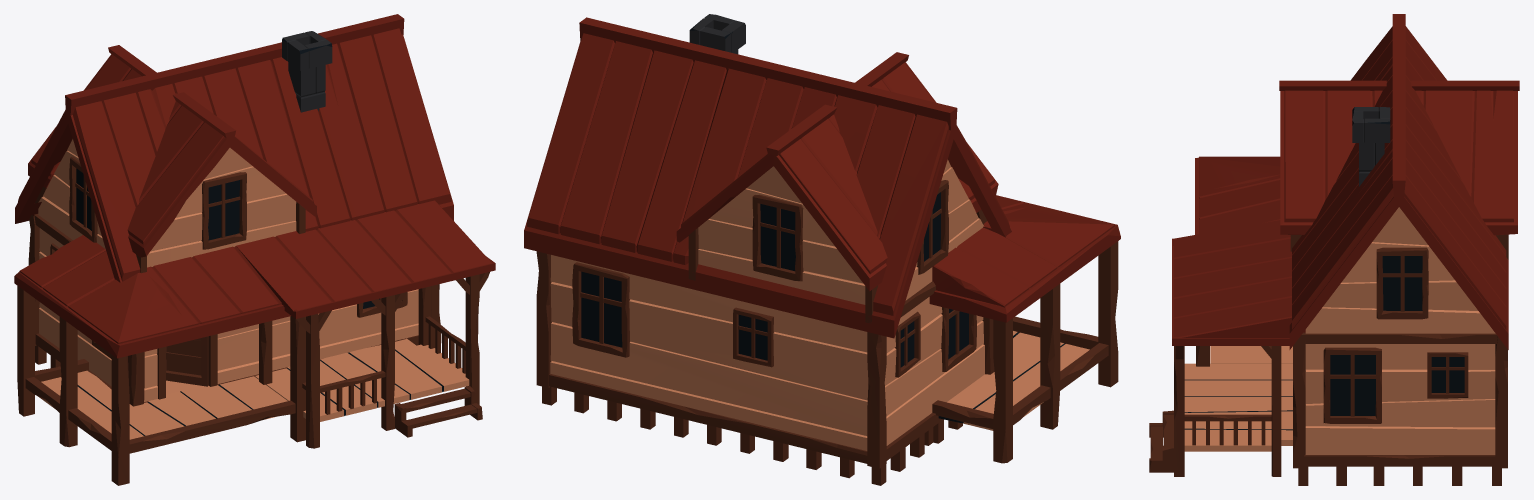
Rendered from House_6.fbx.
The picture shows the model from 3 angles, left to right: view 1: azimuth 30°, elevation 25°; view 2: azimuth 150°, elevation 25°; view 3: azimuth 270°, elevation 25°; orthographic projection. The views are drawn at different scales.
Visible parts, largest first — view 1: House_6; view 2: House_6; view 3: House_6.
Boxes of the visible parts, x1,y1,x2,y2 form: House_6: (14,14,495,485); House_6: (524,14,1120,485); House_6: (1149,14,1519,485).
Bounding box in the file's own units: 265 × 209 × 216.
